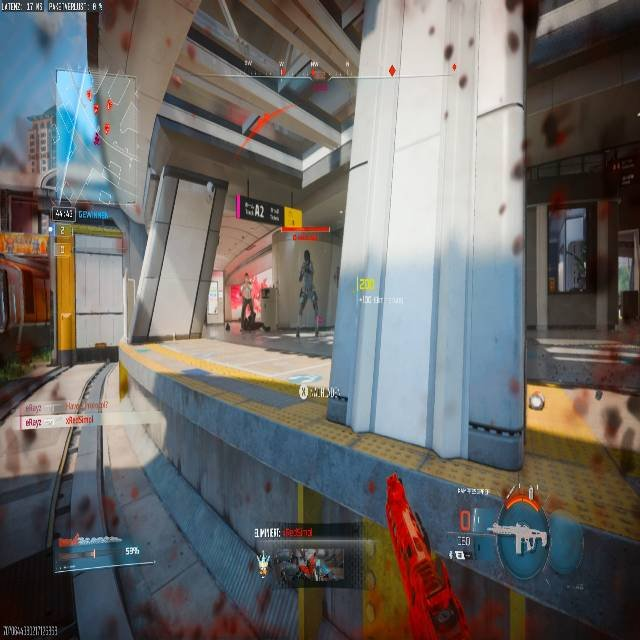head: (243, 273, 250, 281)
player: (297, 249, 319, 317), (237, 274, 260, 322), (242, 292, 259, 329)
